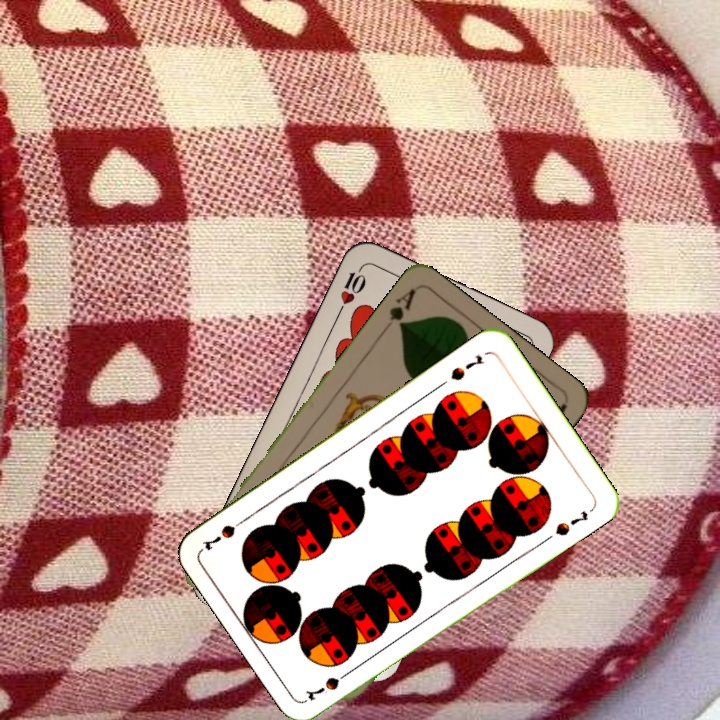GA: (377, 285, 419, 336)
H10: (333, 262, 369, 318)
S7: (302, 665, 356, 704), (446, 350, 487, 383)
